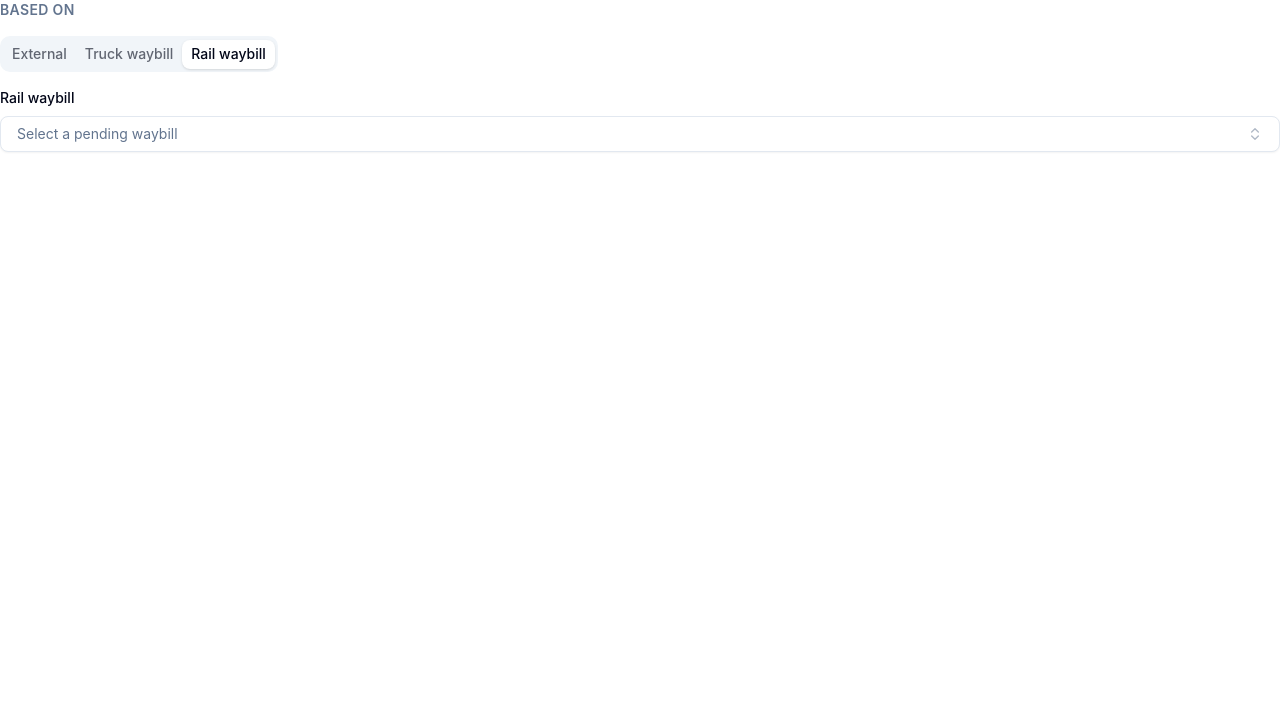
Test case: acceptanceBasisSection — waybill picker (rail tab) › lists only PENDING rail waybills
Click the dropdown at point(97, 134), box 0,116 -> 1279,152
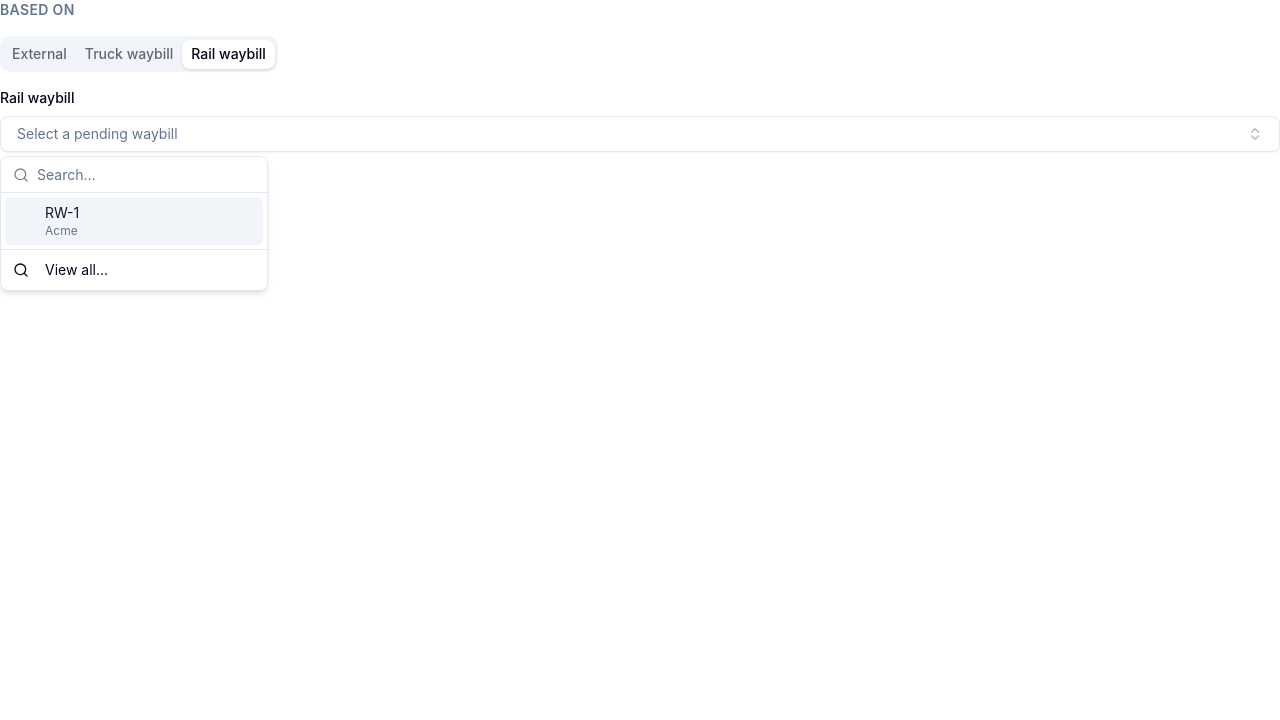
Expected: the option "RW-1 Acme" is shown, 5,197 -> 263,245
